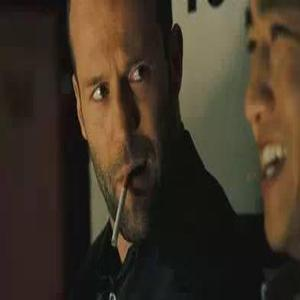cigarette: (113, 172, 128, 247)
